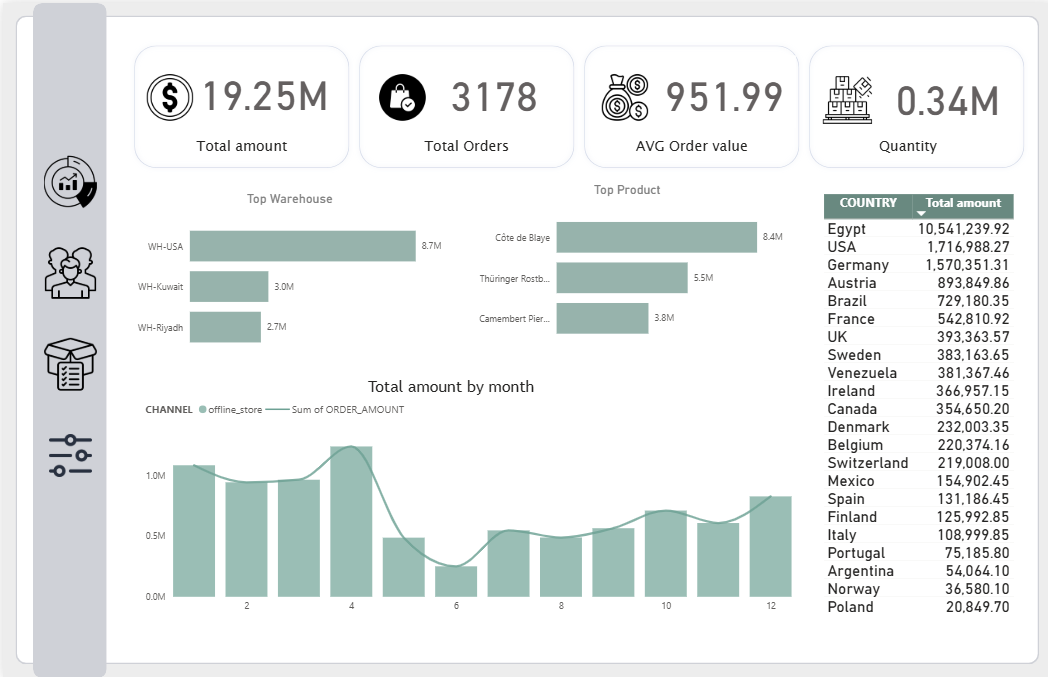

The page's visual inventory and layout, read from the dashboard file:
{"tool":"powerbi","page":{"name":"overview","canvas":[1400,900],"ordinal":0},"visuals":[{"type":"shape","box":[16.7,16.7,1365,865],"z":0},{"type":"shape","box":[40,0,98.3,900],"z":1000},{"type":"shape","box":[168.3,50,300,176.7],"z":2000},{"type":"shape","box":[468.3,50,300,176.7],"z":3000},{"type":"shape","box":[768.3,50,300,176.7],"z":4000},{"type":"shape","box":[1068.3,50,300,176.7],"z":5000},{"type":"image","box":[50,198.3,80,80],"z":6000},{"type":"image","box":[50,320,80,80],"z":7000},{"type":"image","box":[50,441.7,80,80],"z":8000},{"type":"image","box":[50,563.3,80,80],"z":9000},{"type":"card","fields":{"Values":["Sum(FACT_ORDERS.ORDER_AMOUNT)"]},"box":[253.3,68.3,190,96.7],"z":10000},{"type":"textbox","box":[226.7,171.7,183.3,55],"z":11000},{"type":"image","box":[185,88.3,75,75],"z":12000},{"type":"card","fields":{"Values":["Count(FACT_ORDERS.ORDER_KEY)"]},"box":[560,70,190,96.7],"z":13000},{"type":"textbox","box":[526.7,171.7,183.3,55],"z":14000},{"type":"image","box":[495,88.3,75,75],"z":15000},{"type":"card","fields":{"Values":["FACT_ORDERS.avg_order_value"]},"box":[866.7,70,190,96.7],"z":16000},{"type":"textbox","box":[826.7,171.7,183.3,55],"z":17000},{"type":"image","box":[791.7,88.3,75,75],"z":18000},{"type":"card","fields":{"Values":["Sum(FACT_ORDERS.QUANTITY)"]},"box":[1165,75,190,96.7],"z":19000},{"type":"textbox","box":[1115,171.7,183.3,55],"z":20000},{"type":"image","box":[1088.3,91.7,75,75],"z":21000},{"type":"lineStackedColumnComboChart","fields":{"Category":["DIM_DATE.MONTH"],"Y":["Sum(FACT_ORDERS.ORDER_AMOUNT)"],"Series":["FACT_ORDERS.CHANNEL"],"Y2":["Sum(FACT_ORDERS.ORDER_AMOUNT)"]},"box":[185,521.7,871.7,300],"z":22000},{"type":"textbox","box":[450,493.3,295,55],"z":23000},{"type":"barChart","title":"Top Warehouse","fields":{"Category":["FACT_ORDERS.WAREHOUSE"],"Y":["Sum(FACT_ORDERS.ORDER_AMOUNT)"]},"box":[168.3,250,428.3,231.7],"z":24000},{"type":"barChart","title":"Top Product","fields":{"Y":["Sum(FACT_ORDERS.ORDER_AMOUNT)"],"Category":["DIM_PRODUCT.PRODUCT_NAME"]},"box":[618.3,238.3,428.3,231.7],"z":25000},{"type":"tableEx","fields":{"Values":["DIM_CUSTOMERS.COUNTRY","Sum(FACT_ORDERS.ORDER_AMOUNT)"]},"box":[1088.3,250,266.7,571.7],"z":26000}]}

Visuals, with their boxes on the page's 1400x900 design canvas (x1, y1, x2, y2). These are canvas units, not pixel positions in the 1048x677 screenshot, which may show the page scaled, cropped or inside an application window:
shape: (17,17,1382,882)
shape: (40,0,138,900)
shape: (168,50,468,227)
shape: (468,50,768,227)
shape: (768,50,1068,227)
shape: (1068,50,1368,227)
image: (50,198,130,278)
image: (50,320,130,400)
image: (50,442,130,522)
image: (50,563,130,643)
card - Sum(FACT_ORDERS.ORDER_AMOUNT): (253,68,443,165)
textbox: (227,172,410,227)
image: (185,88,260,163)
card - Count(FACT_ORDERS.ORDER_KEY): (560,70,750,167)
textbox: (527,172,710,227)
image: (495,88,570,163)
card - FACT_ORDERS.avg_order_value: (867,70,1057,167)
textbox: (827,172,1010,227)
image: (792,88,867,163)
card - Sum(FACT_ORDERS.QUANTITY): (1165,75,1355,172)
textbox: (1115,172,1298,227)
image: (1088,92,1163,167)
lineStackedColumnComboChart - DIM_DATE.MONTH x Sum(FACT_ORDERS.ORDER_AMOUNT): (185,522,1057,822)
textbox: (450,493,745,548)
"Top Warehouse" barChart: (168,250,597,482)
"Top Product" barChart: (618,238,1047,470)
tableEx - DIM_CUSTOMERS.COUNTRY x Sum(FACT_ORDERS.ORDER_AMOUNT): (1088,250,1355,822)
